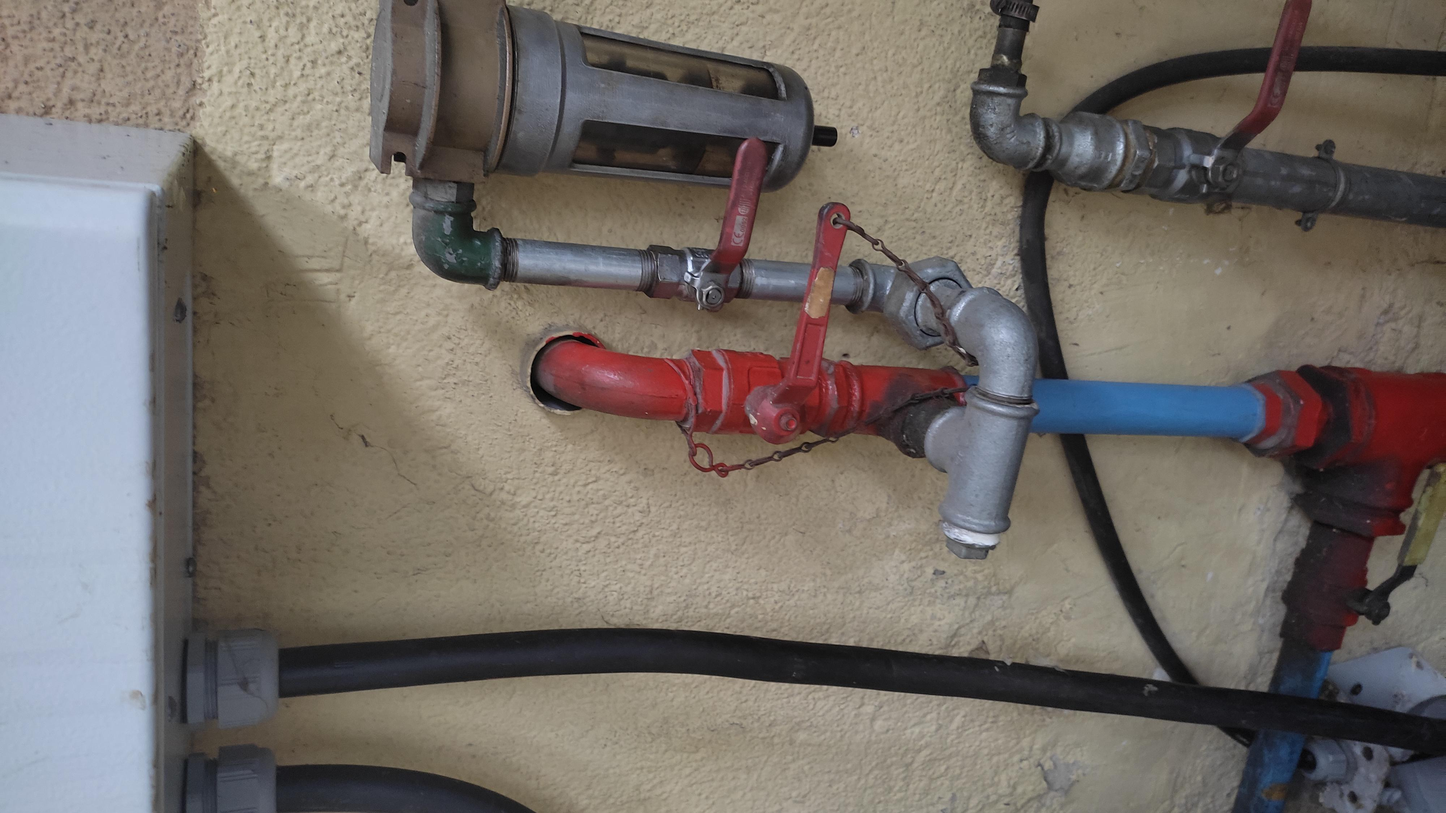closed valve: (1120, 0, 1316, 215), (721, 186, 858, 449), (635, 129, 772, 318)
opened valve: (1263, 453, 1446, 660)
